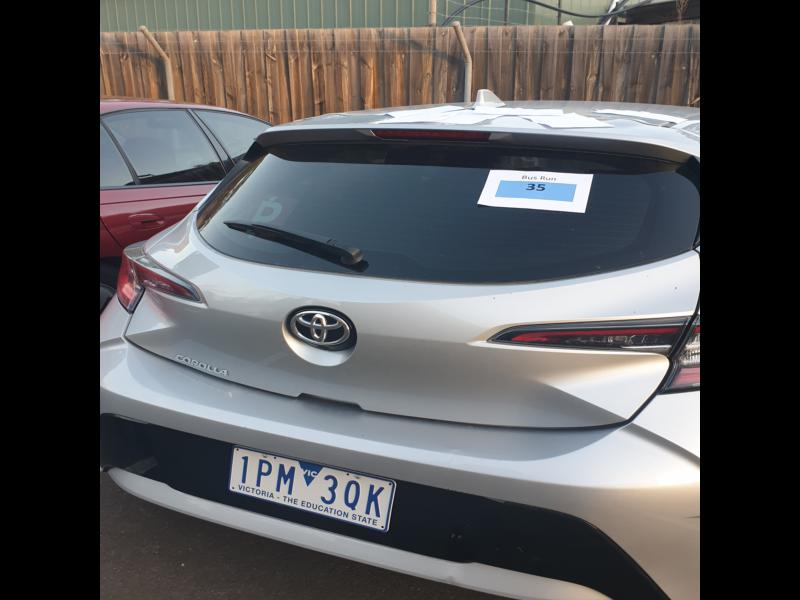BusRun: (495, 180, 578, 204)
PlateNo: (228, 448, 397, 533)
